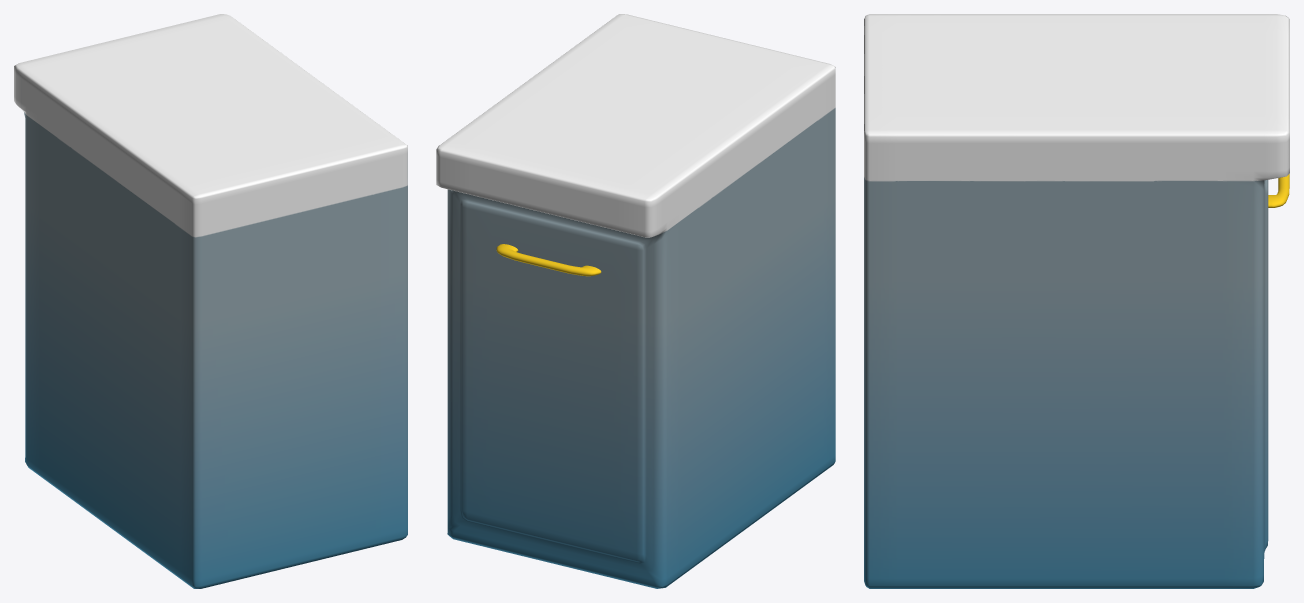
The model's file is PR_drawer_01 (1).fbx.
The picture shows the model from 3 angles, left to right: view 1: azimuth 30°, elevation 25°; view 2: azimuth 150°, elevation 25°; view 3: azimuth 270°, elevation 25°; orthographic projection. The views are drawn at different scales.
Visible parts, largest first — view 1: small_cabinet_01:Cabinet_geo; view 2: small_cabinet_01:Cabinet_geo, PR_handle7; view 3: small_cabinet_01:Cabinet_geo.
Part boxes in pixels (x1,y1,x2,y2): small_cabinet_01:Cabinet_geo: [14, 14, 407, 588]; small_cabinet_01:Cabinet_geo: [436, 14, 835, 588]; PR_handle7: [496, 244, 601, 276]; small_cabinet_01:Cabinet_geo: [864, 14, 1289, 588].
Bounding box in the file's own units: 7999 × 13985 × 11803.
2 materials, 2 textured.
